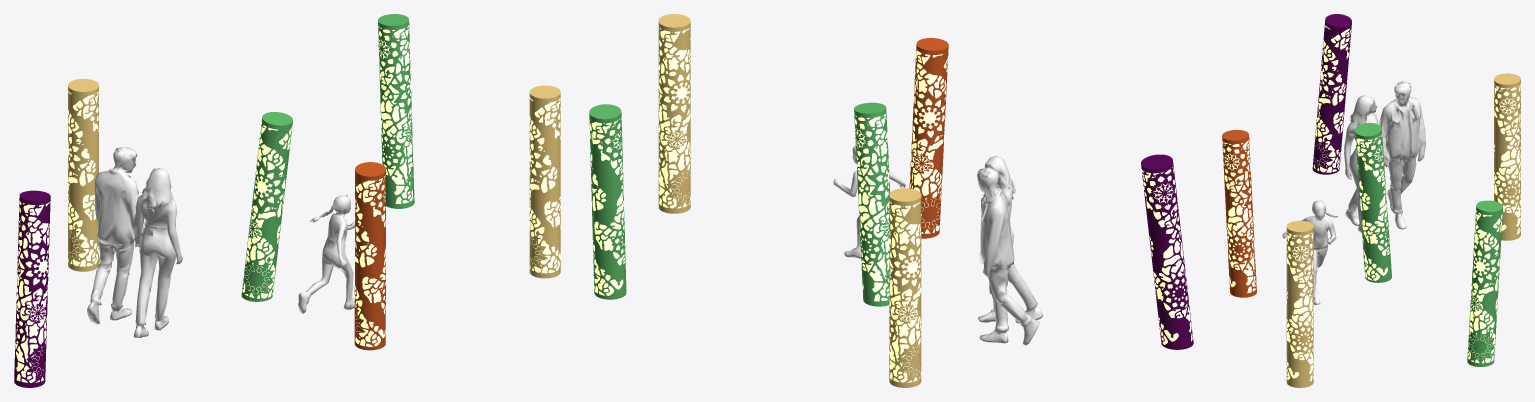
3 views of the same model, side by side, from view 1: azimuth 30°, elevation 25°; view 2: azimuth 150°, elevation 25°; view 3: azimuth 270°, elevation 25° (orthographic). The views are drawn at different scales.
Visible parts, largest first — view 1: Couple, beacon_0, beacon_6, beacon_3, beacon_012, beacon_013, beacon_014, inner_007, inner_008, inner_002, Object_007, inner_004 (+2 smaller); view 2: Couple, beacon_014, beacon_013, beacon_012, beacon_0, beacon_3, beacon_6, inner_006, inner_004, inner_002, inner_003, inner_007 (+2 smaller); view 3: Couple, beacon_0, beacon_014, beacon_6, beacon_013, beacon_3, beacon_012, inner_003, inner_008, inner_004, inner_006, inner_007 (+2 smaller).
Boxes of the visible parts, x1,y1,x2,y2 form: Couple: (87, 147, 182, 337); beacon_0: (529, 85, 560, 278); beacon_6: (241, 112, 292, 301); beacon_3: (354, 162, 385, 350); beacon_012: (68, 78, 98, 271); beacon_013: (14, 190, 50, 387); beacon_014: (378, 14, 414, 208); inner_007: (15, 201, 49, 382); inner_008: (378, 25, 413, 203); inner_002: (242, 125, 291, 298); Object_007: (298, 195, 354, 313); inner_004: (530, 98, 560, 273); Couple: (977, 155, 1042, 345); beacon_014: (589, 104, 626, 299); beacon_013: (1141, 154, 1193, 349); beacon_012: (889, 188, 921, 387); beacon_0: (658, 14, 690, 213); beacon_3: (909, 38, 948, 238); beacon_6: (854, 102, 890, 306); inner_006: (889, 202, 920, 382); inner_004: (659, 28, 690, 208); inner_002: (855, 114, 889, 301); inner_003: (910, 50, 947, 233); inner_007: (1142, 167, 1192, 344); Couple: (1344, 81, 1425, 233); beacon_0: (1286, 220, 1313, 387); beacon_014: (1467, 200, 1502, 366); beacon_6: (1355, 123, 1391, 282); beacon_013: (1312, 14, 1351, 174); beacon_3: (1222, 129, 1256, 297); beacon_012: (1494, 73, 1520, 240); inner_003: (1222, 140, 1256, 293); inner_008: (1468, 211, 1502, 363); inner_004: (1287, 232, 1313, 381); inner_006: (1494, 85, 1520, 234); inner_007: (1313, 25, 1350, 172).
Size of the model in its own units: 6.14 by 2.04 by 3.47.
